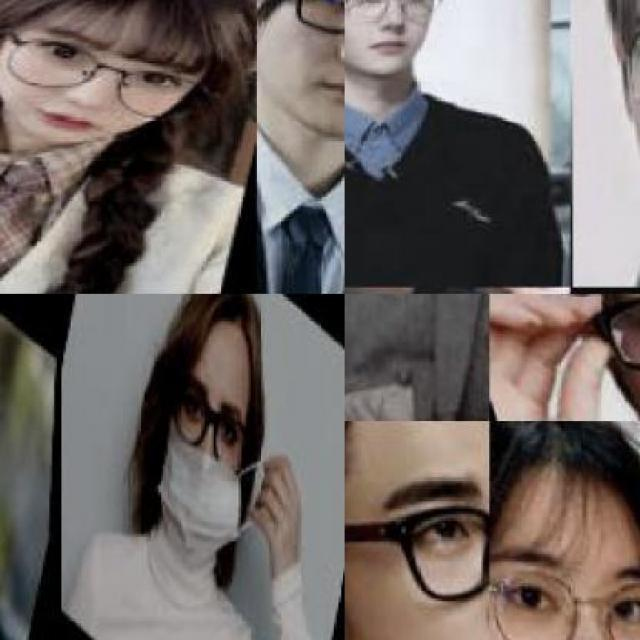glasses: (0, 27, 221, 128), (344, 498, 486, 608), (492, 572, 640, 638), (164, 393, 249, 471), (574, 294, 638, 393), (256, 0, 344, 39), (344, 0, 448, 28)
